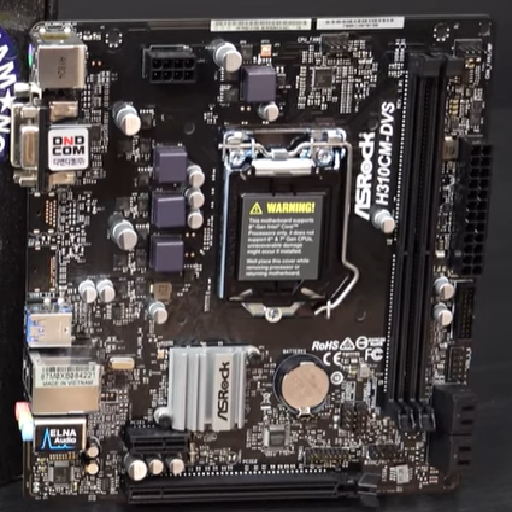CPU: (212, 126, 349, 317)
GPU: (117, 467, 385, 506)
MOTHERBOARD: (9, 15, 493, 499)
RAM: (379, 51, 456, 432)
